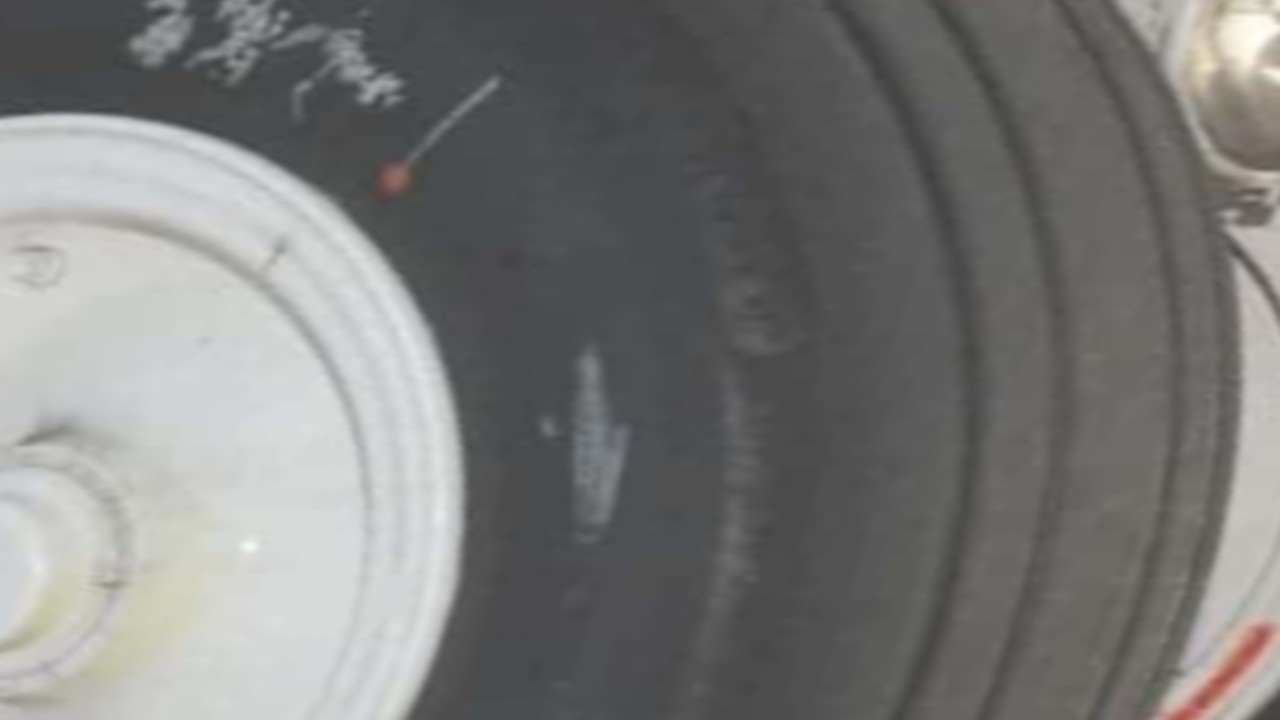wheel: (0, 0, 1280, 720), (710, 0, 1280, 720)
